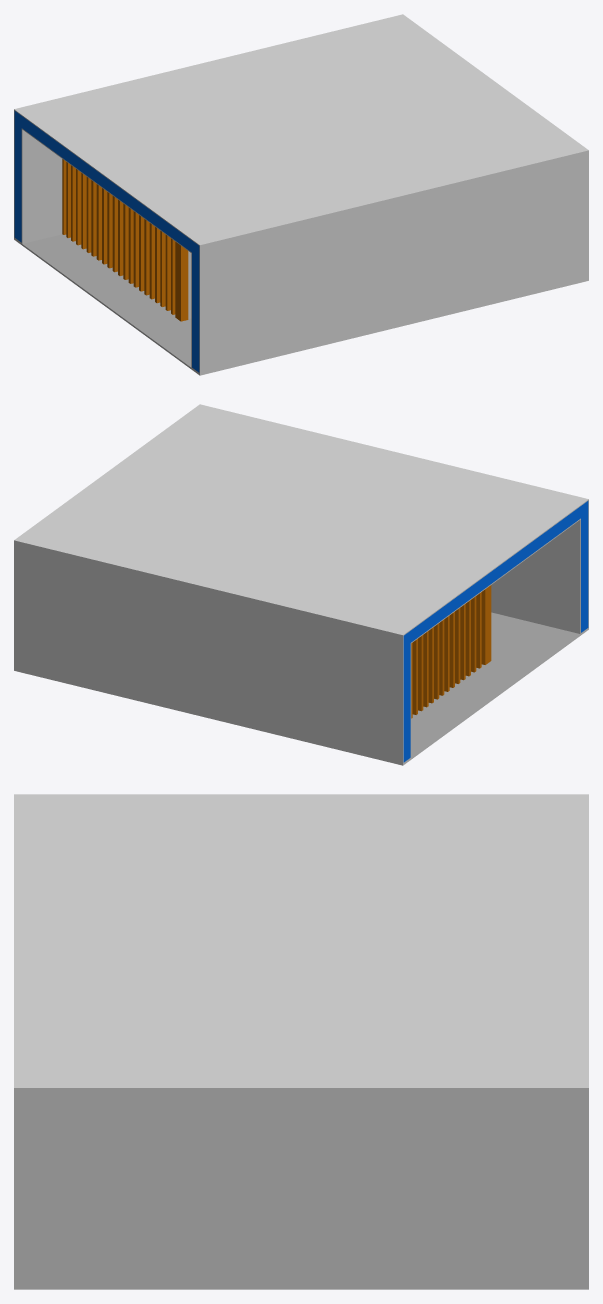
Rendered from Room01.fbx.
3 renders of one model, top to bottom at view 1: azimuth 30°, elevation 25°; view 2: azimuth 150°, elevation 25°; view 3: azimuth 270°, elevation 25°, orthographic. The views are drawn at different scales.
Visible parts, largest first — view 1: Room01; view 2: Room01; view 3: Room01.
Part boxes in pixels (bbox=[...]): Room01: bbox=[14, 14, 588, 375]; Room01: bbox=[14, 404, 588, 765]; Room01: bbox=[14, 794, 588, 1289].
Bounding box in the file's own units: 972 × 311 × 804.
